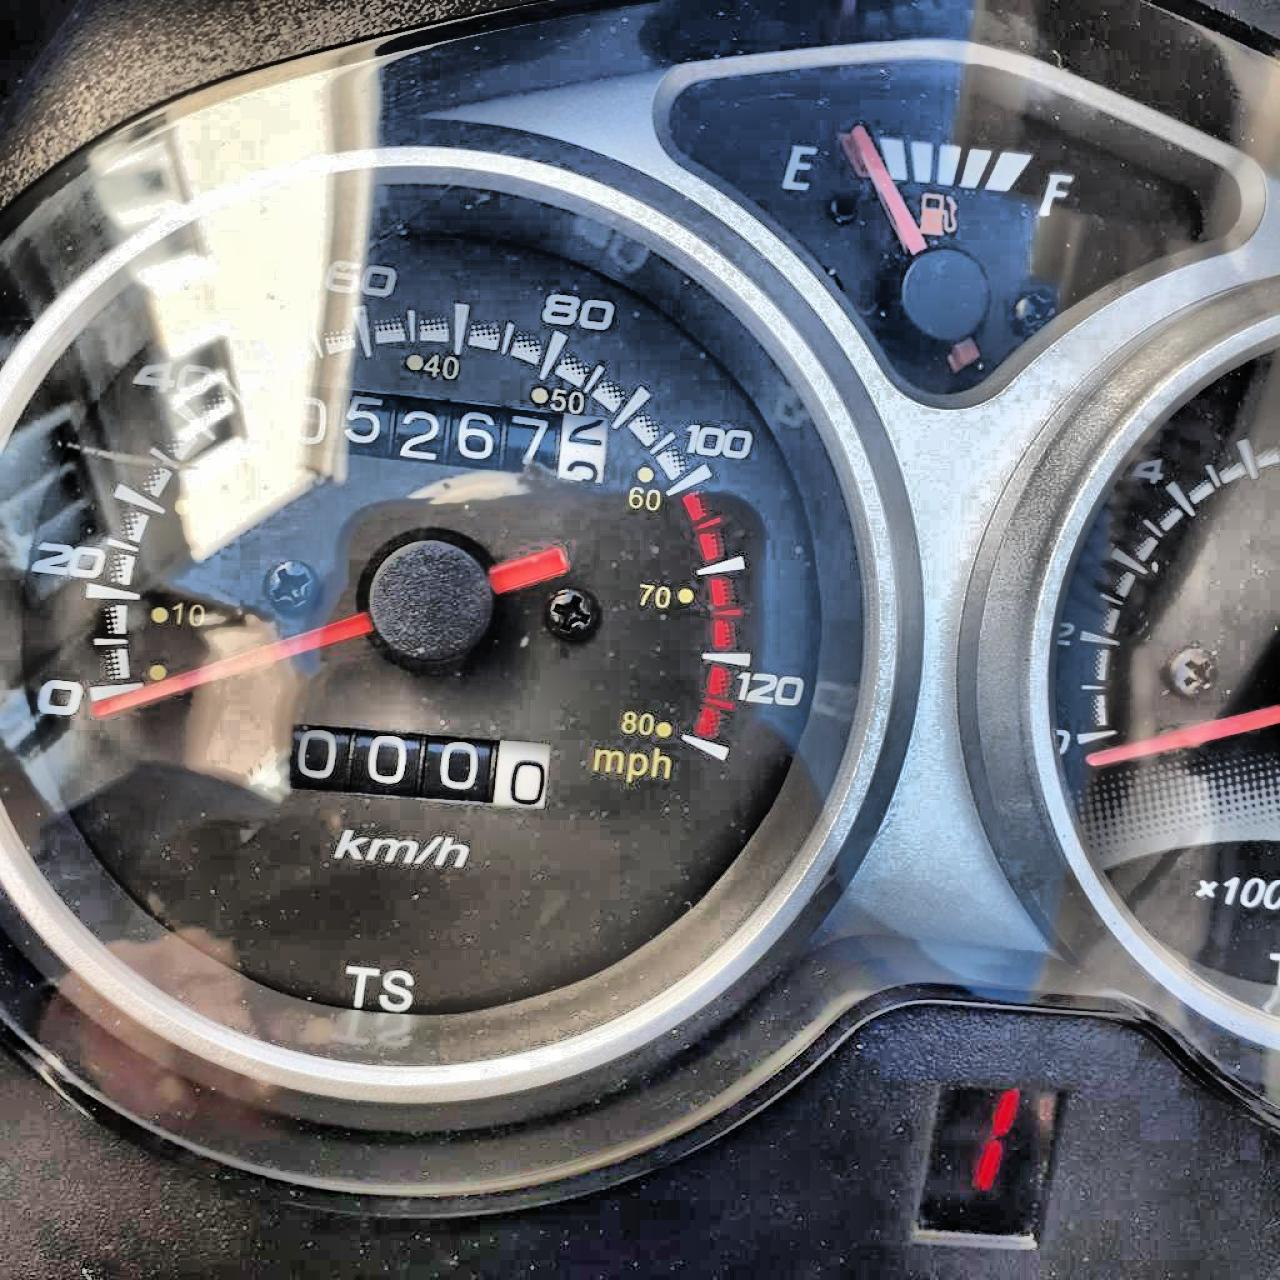0: (291, 394, 328, 445), (566, 390, 585, 413)
2: (397, 409, 438, 459), (566, 414, 604, 449)
3: (565, 456, 599, 483)
5: (341, 394, 382, 444), (549, 387, 565, 411)
6: (457, 410, 495, 459)
7: (510, 413, 549, 465)
odometer: (264, 384, 608, 489)
